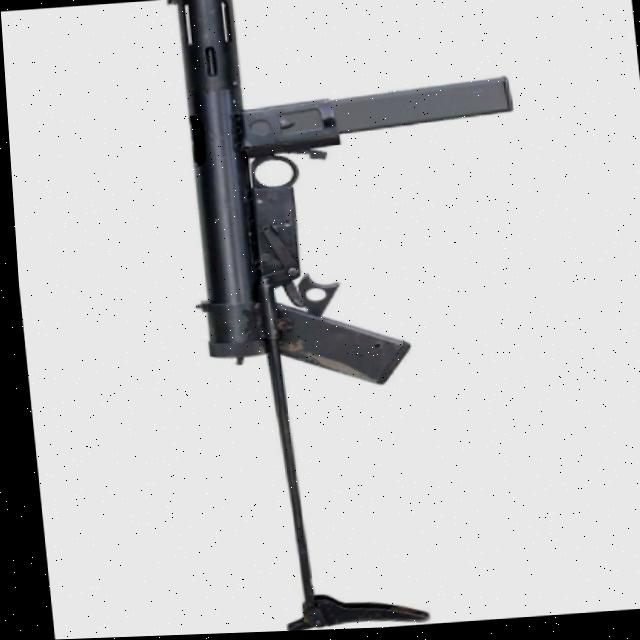firearm: (161, 0, 553, 635)
